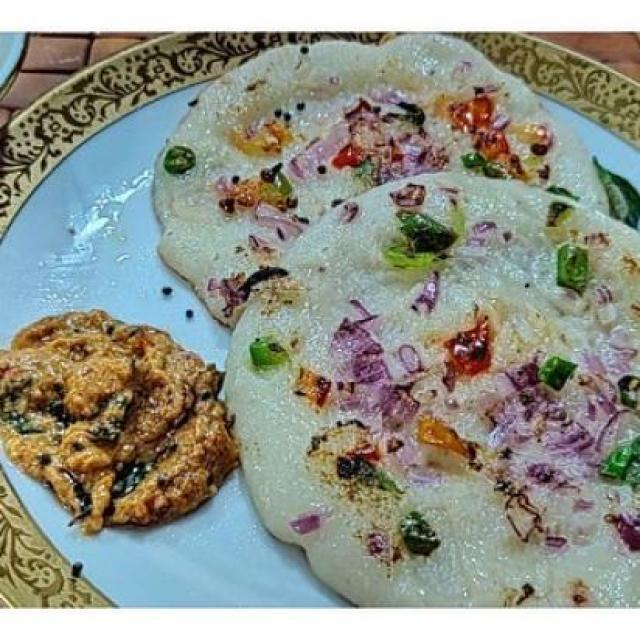dosa-uttapam: (227, 178, 640, 610), (156, 35, 616, 318)
